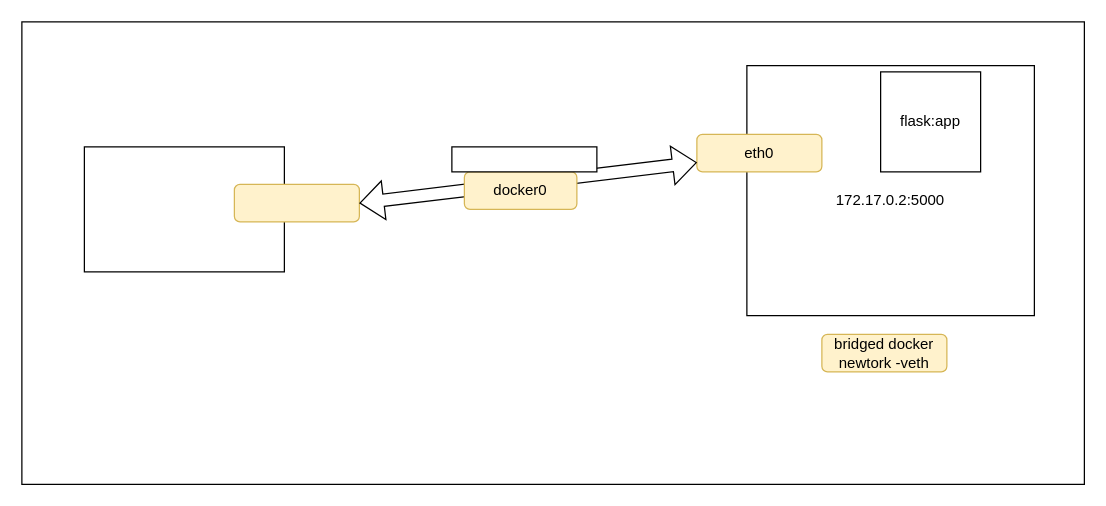
The diagram is 1106 pixels wide and 506 high, and some of its shapes have lost their labels. Here are the shapes that lost their labels. From the top down, the centre of each, then its label:
At pixel 524 159: "NAT".
At pixel 183 209: "Localhost:5000 127.0.0.1".
At pixel 296 202: "loopback".
